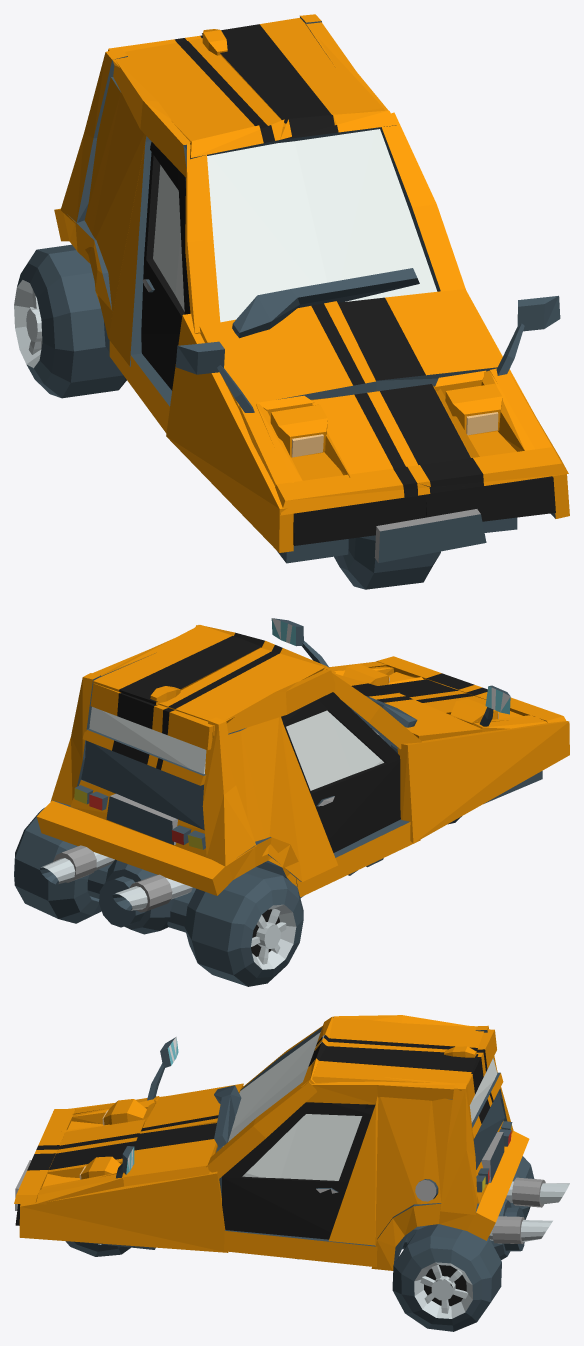
The picture shows the model from 3 angles, top to bottom: view 1: azimuth 30°, elevation 25°; view 2: azimuth 150°, elevation 25°; view 3: azimuth 270°, elevation 25°; orthographic projection. The views are drawn at different scales.
Parts seen in each view (by area): view 1: mesh1997806717, mesh984758681, mesh2046142633, mesh555284456, mesh788969800, mesh434004617, mesh1207072670, mesh1530680266, mesh1468793571, mesh2080416661, mesh320734971, mesh284175183 (+26 smaller); view 2: mesh434004617, mesh788969800, mesh984758681, mesh1051330705, mesh320734971, mesh1207072670, mesh1468793571, mesh1999849156, mesh1233879185, mesh362936881, mesh1949155038, mesh1583051804 (+27 smaller); view 3: mesh1885019339, mesh447744954, mesh505989938, mesh362936881, mesh774492591, mesh1207072670, mesh1051330705, mesh2046142633, mesh1468793571, mesh90471379, mesh964079087, mesh1997806717 (+27 smaller).
Part boxes in pixels (left/top/right/bottom): mesh1997806717: left=207, top=129, right=437, bottom=322; mesh984758681: left=84, top=77, right=151, bottom=366; mesh2046142633: left=338, top=289, right=500, bottom=391; mesh555284456: left=199, top=301, right=376, bottom=409; mesh788969800: left=14, top=244, right=126, bottom=398; mesh434004617: left=166, top=314, right=293, bottom=552; mesh1207072670: left=202, top=17, right=384, bottom=125; mesh1530680266: left=312, top=384, right=471, bottom=474; mesh1468793571: left=112, top=38, right=286, bottom=142; mesh2080416661: left=275, top=447, right=568, bottom=515; mesh320734971: left=141, top=142, right=190, bottom=390; mesh284175183: left=380, top=112, right=466, bottom=291; mesh434004617: left=397, top=721, right=569, bottom=843; mesh788969800: left=184, top=867, right=303, bottom=986; mesh984758681: left=228, top=717, right=337, bottom=881; mesh1051330705: left=36, top=800, right=298, bottom=895; mesh320734971: left=281, top=692, right=400, bottom=852; mesh1207072670: left=93, top=625, right=261, bottom=704; mesh1468793571: left=158, top=648, right=325, bottom=723; mesh1999849156: left=81, top=740, right=204, bottom=830; mesh1233879185: left=202, top=717, right=256, bottom=866; mesh362936881: left=14, top=807, right=101, bottom=923; mesh1949155038: left=286, top=710, right=383, bottom=790; mesh1583051804: left=90, top=683, right=212, bottom=750; mesh1885019339: left=19, top=1171, right=228, bottom=1252; mesh447744954: left=328, top=1096, right=452, bottom=1245; mesh505989938: left=222, top=1102, right=374, bottom=1239; mesh362936881: left=392, top=1224, right=501, bottom=1331; mesh774492591: left=242, top=1114, right=362, bottom=1180; mesh1207072670: left=312, top=1046, right=478, bottom=1083; mesh1051330705: left=371, top=1131, right=529, bottom=1270; mesh2046142633: left=123, top=1123, right=217, bottom=1186; mesh1468793571: left=327, top=1017, right=483, bottom=1052; mesh90471379: left=440, top=1083, right=477, bottom=1214; mesh964079087: left=224, top=1230, right=377, bottom=1267; mesh1997806717: left=223, top=1032, right=324, bottom=1146.
Size of the model in its own units: 0.3077 by 0.2303 by 0.4999.
